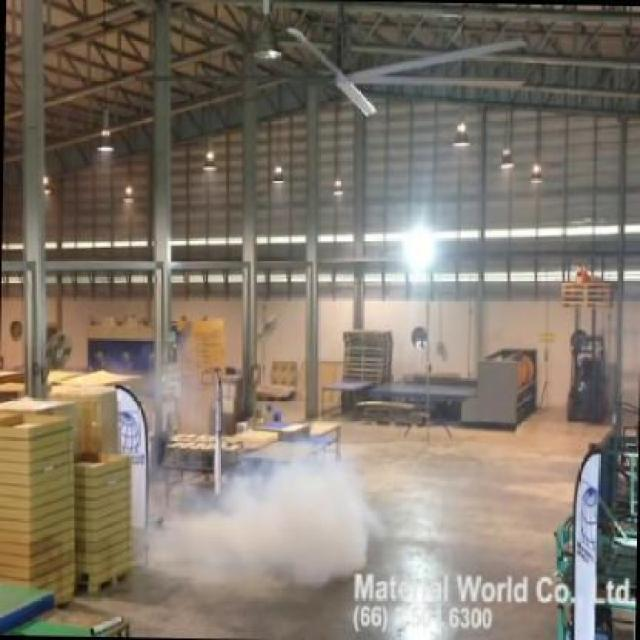fire: (162, 448, 373, 594)
